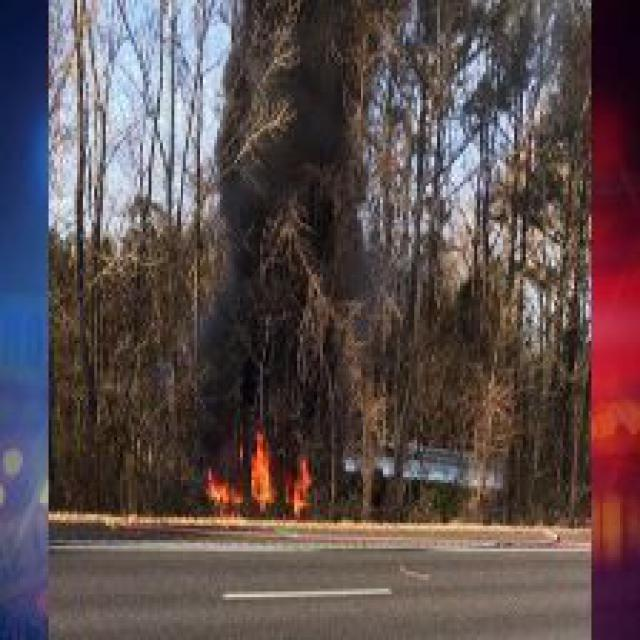fire: (197, 414, 323, 520)
